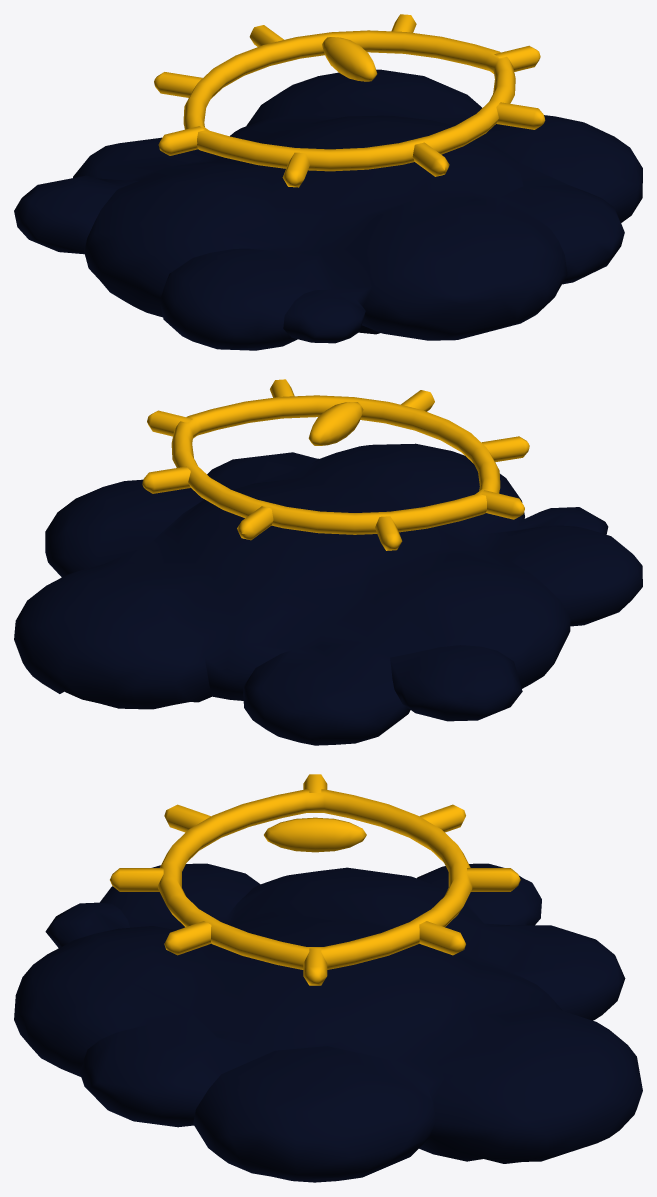
The model's file is Enemy.fbx.
The picture shows the model from 3 angles, top to bottom: view 1: azimuth 30°, elevation 25°; view 2: azimuth 150°, elevation 25°; view 3: azimuth 270°, elevation 25°; orthographic projection. The views are drawn at different scales.
Visible parts, largest first — view 1: Enemy_Cloud, Eye, Pupil, Eyelash_2, Eyelash_6, Eyelash_5, Eyelash_3, Eyelash_1, Eyelash_4; view 2: Enemy_Cloud, Eye, Pupil, Eyelash_8, Eyelash_4, Eyelash_5, Eyelash_7, Eyelash_1, Eyelash_6; view 3: Enemy_Cloud, Eye, Pupil, Eyelash_7, Eyelash_3, Eyelash_8, Eyelash_2, Eyelash_6, Eyelash_4, Eyelash_1.
Boxes of the visible parts, box(x1,y1,x2,y2) form: Enemy_Cloud: box(14, 69, 642, 350); Eye: box(183, 30, 515, 171); Pupil: box(322, 37, 377, 81); Eyelash_2: box(496, 102, 545, 129); Eyelash_6: box(154, 72, 202, 97); Eyelash_5: box(158, 126, 204, 155); Eyelash_3: box(412, 142, 449, 176); Eyelash_1: box(494, 45, 540, 71); Eyelash_4: box(282, 152, 310, 187); Enemy_Cloud: box(14, 443, 642, 745); Eye: box(171, 395, 500, 534); Pupil: box(308, 402, 363, 445); Eyelash_8: box(142, 466, 190, 493); Eyelash_4: box(481, 436, 529, 461); Eyelash_5: box(479, 490, 524, 519); Eyelash_7: box(237, 506, 273, 540); Eyelash_1: box(147, 410, 192, 436); Eyelash_6: box(375, 516, 402, 550); Enemy_Cloud: box(14, 863, 642, 1182); Eye: box(158, 789, 472, 969); Pupil: box(264, 817, 366, 852); Eyelash_7: box(467, 868, 520, 891); Eyelash_3: box(110, 868, 163, 891); Eyelash_8: box(419, 921, 465, 955); Eyelash_2: box(164, 921, 211, 955); Eyelash_6: box(419, 804, 465, 832); Eyelash_4: box(164, 804, 210, 832); Eyelash_1: box(303, 948, 327, 985).
Size of the model in its own units: 312 by 124 by 296.
Materials: 1 (1 with a texture image).
